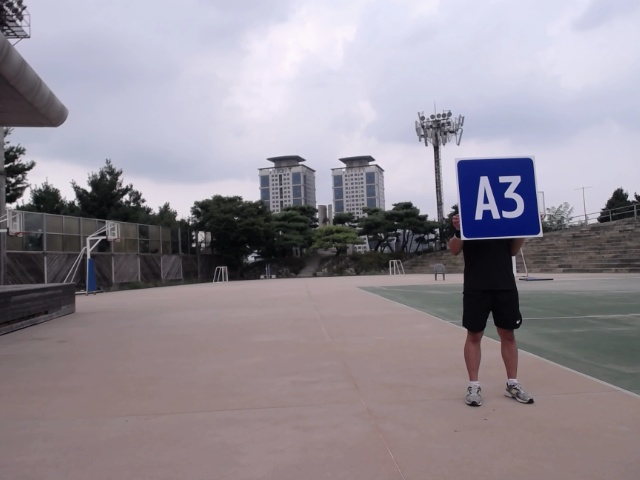delivery_a3: (455, 157, 543, 239)
